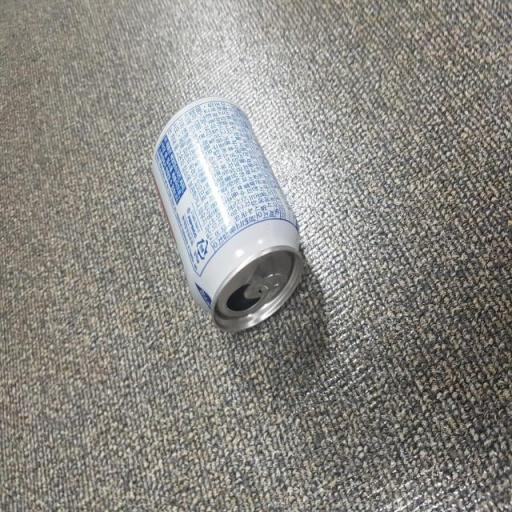metal: (117, 81, 307, 355)
